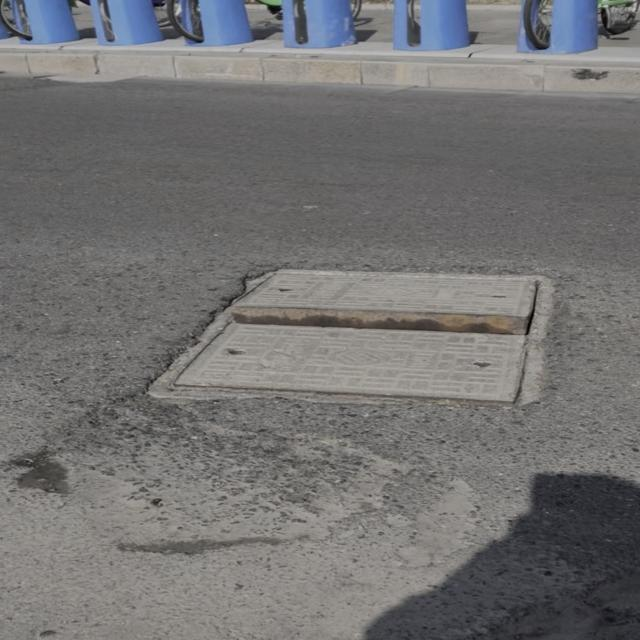uncovered: (150, 267, 559, 408)
